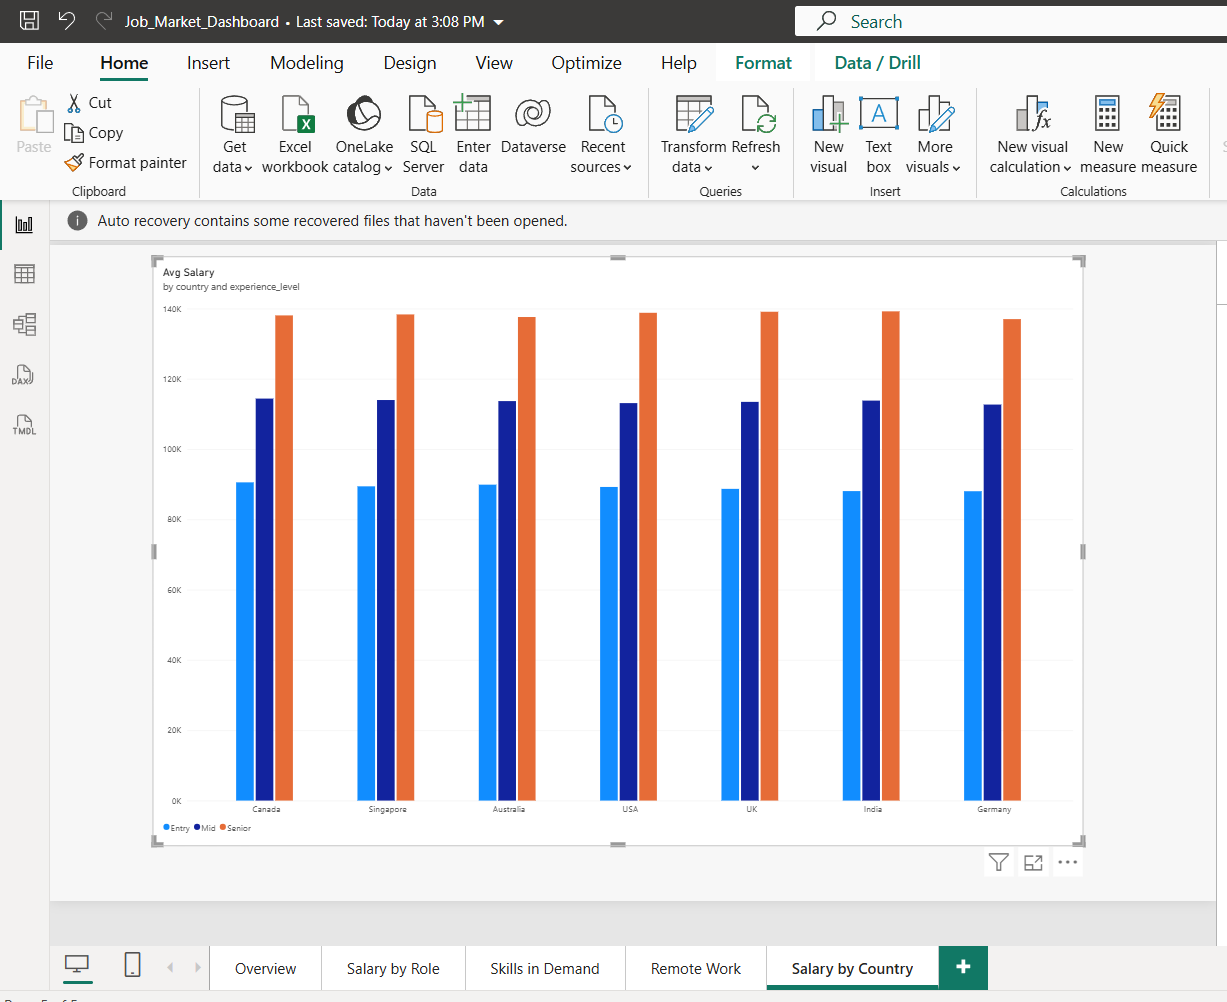

This screenshot's page, from the dashboard's own definition file:
{"tool":"powerbi","page":{"name":"Salary by Country","canvas":[1920,1080],"ordinal":4},"visuals":[{"type":"clusteredColumnChart","fields":{"Category":["ai_jobs_2020_2026.country"],"Series":["ai_jobs_2020_2026.experience_level"],"Y":["ai_jobs_2020_2026.Avg Salary"]},"box":[168.8,18.5,983.9,827.4],"z":0}]}

Visuals, with their boxes on the page's 1920x1080 design canvas (x1, y1, x2, y2). These are canvas units, not pixel positions in the 1227x1002 screenshot, which may show the page scaled, cropped or inside an application window:
clusteredColumnChart - ai_jobs_2020_2026.country x ai_jobs_2020_2026.experience_level: (169, 18, 1153, 846)
